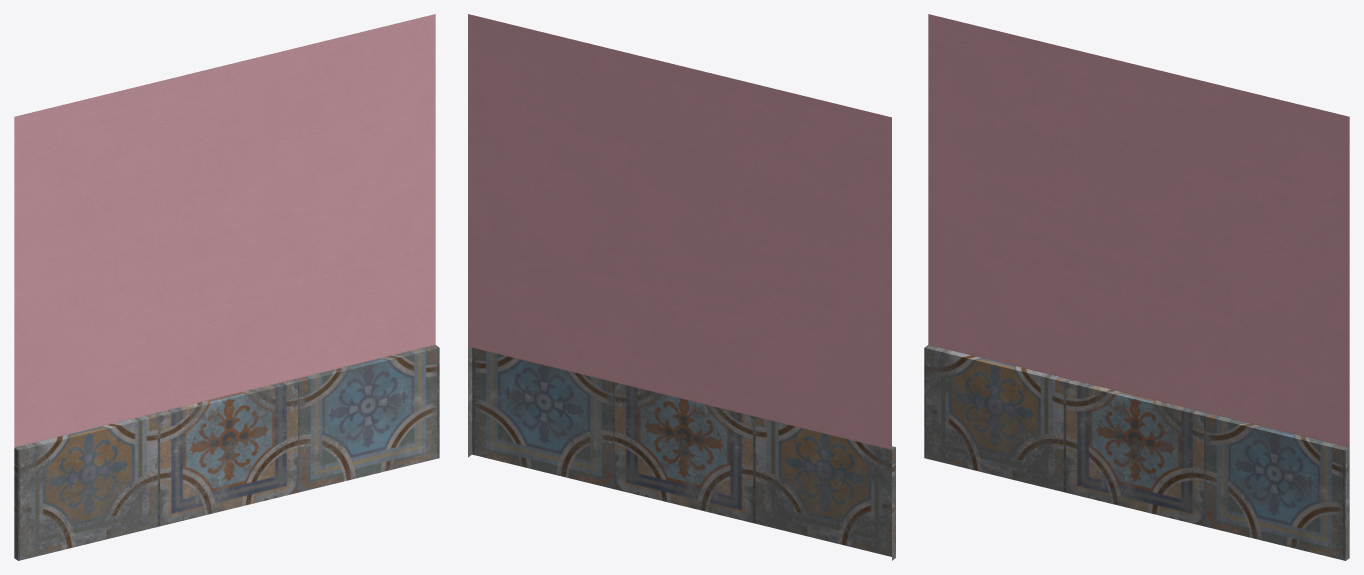
Rendered from Building A Wall B.fbx.
3 views of the same model, side by side, from view 1: azimuth 30°, elevation 25°; view 2: azimuth 150°, elevation 25°; view 3: azimuth 330°, elevation 25° (orthographic).
Parts seen in each view (by area): view 1: Building A Wall B (2, Baked); view 2: Building A Wall B (2, Baked); view 3: Building A Wall B (2, Baked).
Boxes of the visible parts, bbox=[...] form: Building A Wall B (2, Baked): bbox=[14, 14, 439, 560]; Building A Wall B (2, Baked): bbox=[468, 14, 895, 560]; Building A Wall B (2, Baked): bbox=[924, 14, 1349, 560].
Size of the model in its own units: 300 by 300 by 5.
